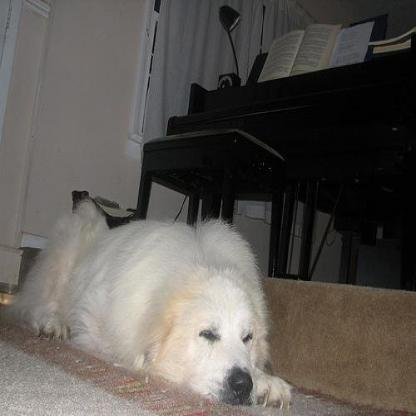Great_Pyrenees: (12, 198, 292, 408)
